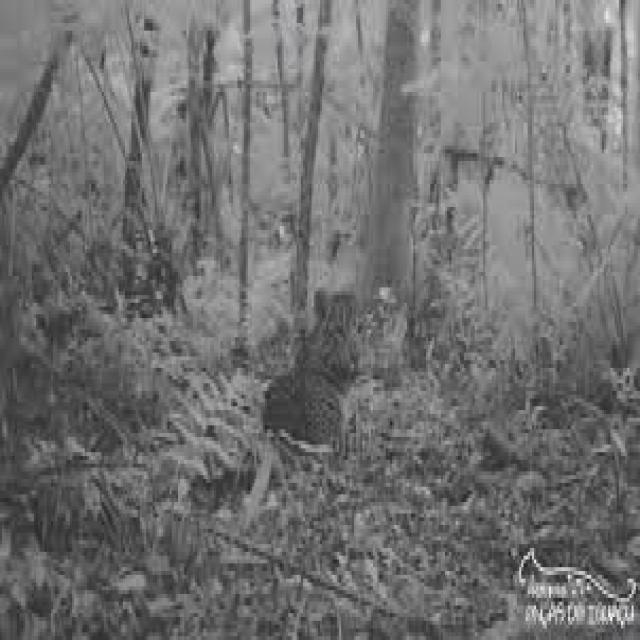Jaguar: (263, 288, 354, 452)
